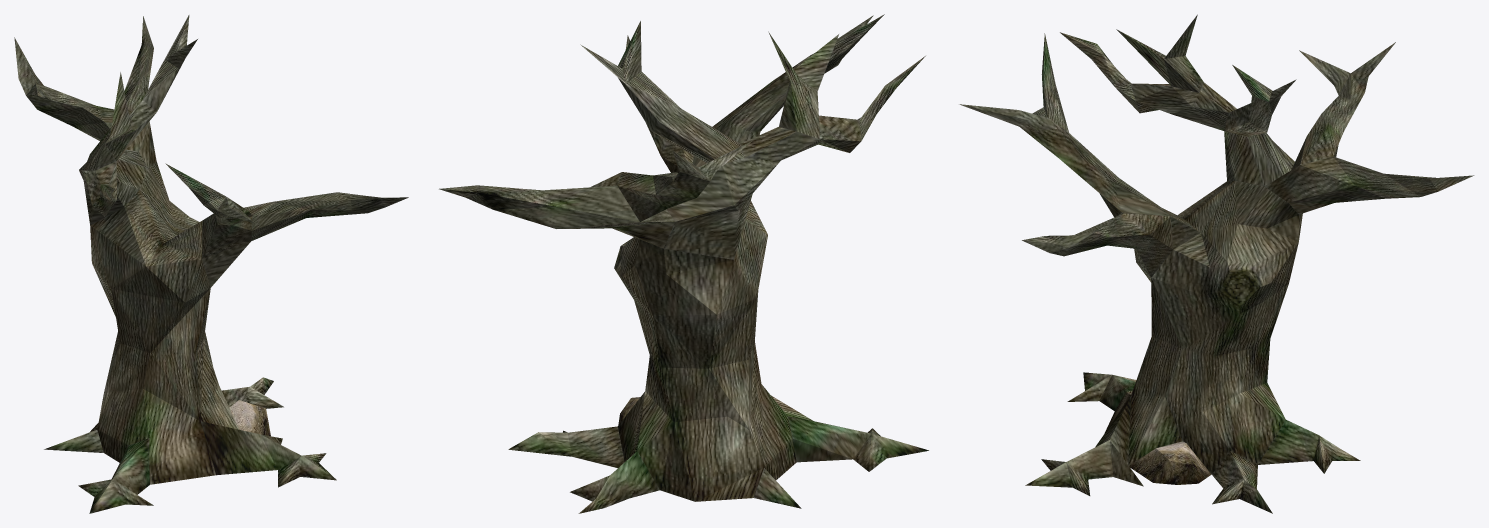
The model's file is oak_leafless.obj.
The picture shows the model from 3 angles, left to right: view 1: azimuth 30°, elevation 25°; view 2: azimuth 150°, elevation 25°; view 3: azimuth 270°, elevation 25°; orthographic projection. The views are drawn at different scales.
Bounding box in the file's own units: 122 × 153 × 178.
Materials: 1 (1 with a texture image).
